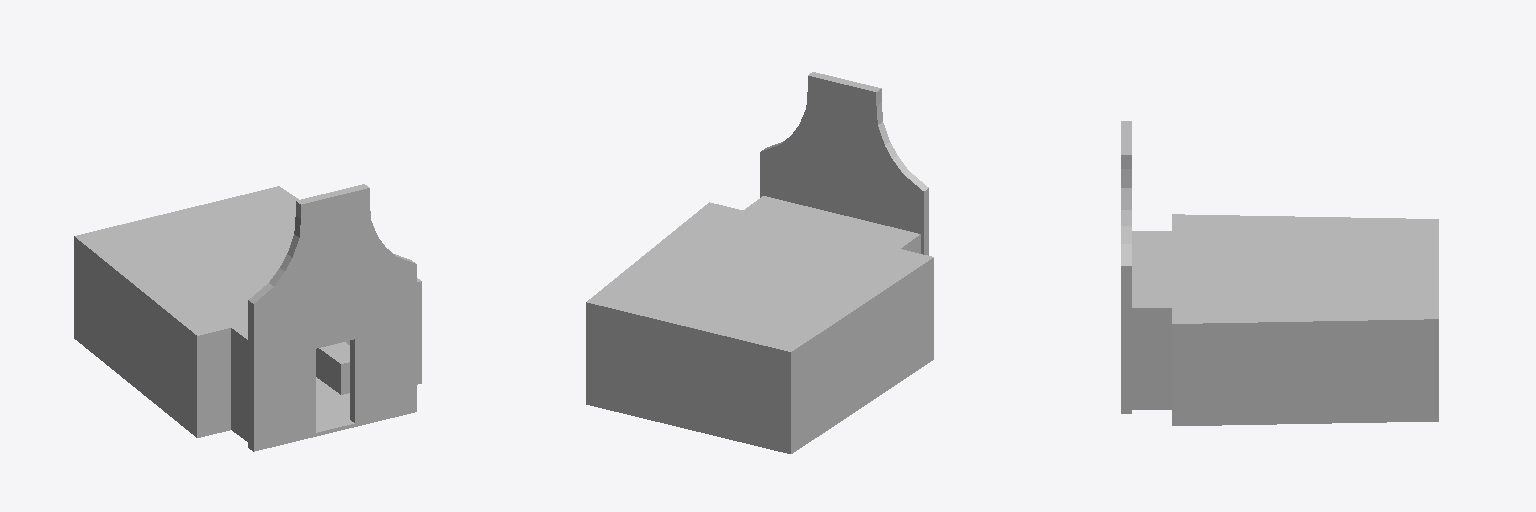
The model's file is AHMockup.obj.
3 renders of one model, left to right at view 1: azimuth 30°, elevation 25°; view 2: azimuth 150°, elevation 25°; view 3: azimuth 270°, elevation 25°, orthographic.
Parts seen in each view (by area): view 1: Cube; view 2: Cube; view 3: Cube.
Boxes of the visible parts, x1,y1,x2,y2 form: Cube: [74, 184, 421, 451]; Cube: [586, 72, 933, 453]; Cube: [1121, 121, 1438, 425].
Size of the model in its own units: 5.59 by 5.6 by 6.83.